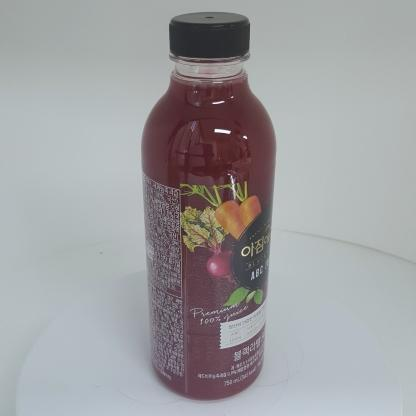--------------ABC--750ML: (141, 12, 276, 401)
